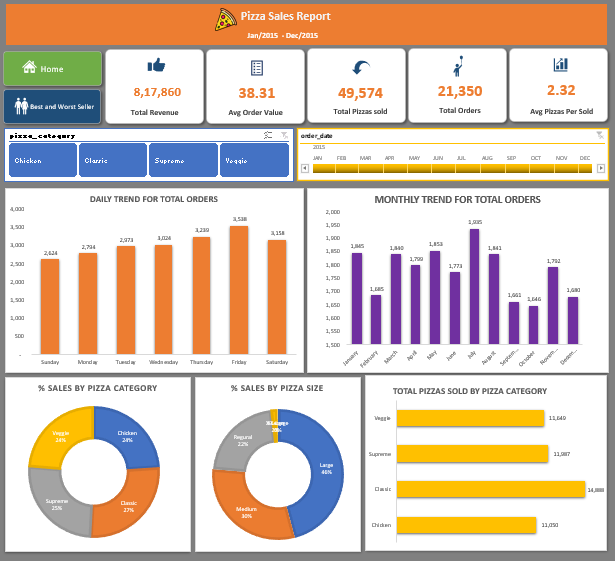

Layout of this report page (visuals, bound fields, positions):
{"tool":"powerbi","page":{"name":"Home","canvas":[1500,820],"ordinal":0},"visuals":[{"type":"image","box":[10,167.1,41.4,44.3],"z":0},{"type":"cardVisual","fields":{"Data":["pizza_sales.Total Revenue","pizza_sales.Average order value","pizza_sales.Total Pizza Sold","pizza_sales.Total orders","pizza_sales.Average pizza per order"]},"box":[245.7,98.6,1254.3,157.1],"z":1000},{"type":"shape","box":[10,14.3,1481.4,77.1],"z":2000},{"type":"textbox","box":[638.6,14.3,288.6,52.9],"z":3000},{"type":"textbox","box":[688.6,52.9,194.3,41.4],"z":4000},{"type":"shape","box":[245.7,255.7,585.7,295.7],"z":5000},{"type":"columnChart","title":"Daily Trend for Total Orders","fields":{"Category":["pizza_sales.Order Day"],"Y":["pizza_sales.Total orders"]},"box":[262.9,265.7,568.6,275.7],"z":6000},{"type":"shape","box":[845.7,255.7,645.7,295.7],"z":7000},{"type":"areaChart","title":"Monthly Trend for Total Orders","fields":{"Category":["pizza_sales.order month"],"Y":["pizza_sales.Total orders"]},"box":[858.6,265.7,628.6,275.7],"z":8000},{"type":"shape","box":[247.1,560,412.9,248.6],"z":9000},{"type":"shape","box":[1085.7,558.6,405.7,248.6],"z":10000},{"type":"shape","box":[670,558.6,405.7,248.6],"z":11000},{"type":"donutChart","title":"% Sales by pizza_category","fields":{"Category":["pizza_sales.pizza_category"],"Y":["pizza_sales.Total Revenue"]},"box":[262.9,571.4,381.4,224.3],"z":12000},{"type":"donutChart","title":"% Sales by pizza_Size","fields":{"Y":["pizza_sales.Total Revenue"],"Category":["pizza_sales.pizza_size"]},"box":[681.4,571.4,381.4,224.3],"z":13000},{"type":"funnel","title":"% Sales by pizza_category","fields":{"Category":["pizza_sales.pizza_category"],"Y":["pizza_sales.Total Pizza Sold"]},"box":[1097.1,567.1,381.4,230],"z":14000},{"type":"slicer","fields":{"Values":["pizza_sales.pizza_category"]},"box":[967.1,17.1,232.9,71.4],"z":15000},{"type":"shape","box":[10,94.3,225.7,710],"z":16000},{"type":"slicer","fields":{"Values":["pizza_sales.order_date"]},"box":[1200,14.3,230,72],"z":17000},{"type":"textbox","box":[10,227.1,225.7,38.6],"z":18000},{"type":"textbox","box":[10,265.7,225.7,251.4],"z":19000},{"type":"textbox","box":[10,520,225.7,38.6],"z":20000},{"type":"textbox","box":[10,552.9,225.7,251.4],"z":21000},{"type":"pageNavigator","box":[10,98.6,225.7,50],"z":23000},{"type":"pageNavigator","box":[10,152.9,225.7,50],"z":24001}]}

Visuals, with their boxes on the page's 1500x820 design canvas (x1, y1, x2, y2). These are canvas units, not pixel positions in the 615x561 screenshot, which may show the page scaled, cropped or inside an application window:
image: rect(10, 167, 51, 211)
cardVisual - pizza_sales.Total Revenue x pizza_sales.Average order value: rect(246, 99, 1500, 256)
shape: rect(10, 14, 1491, 91)
textbox: rect(639, 14, 927, 67)
textbox: rect(689, 53, 883, 94)
shape: rect(246, 256, 831, 551)
"Daily Trend for Total Orders" columnChart: rect(263, 266, 832, 541)
shape: rect(846, 256, 1491, 551)
"Monthly Trend for Total Orders" areaChart: rect(859, 266, 1487, 541)
shape: rect(247, 560, 660, 809)
shape: rect(1086, 559, 1491, 807)
shape: rect(670, 559, 1076, 807)
"% Sales by pizza_category" donutChart: rect(263, 571, 644, 796)
"% Sales by pizza_Size" donutChart: rect(681, 571, 1063, 796)
"% Sales by pizza_category" funnel: rect(1097, 567, 1478, 797)
slicer - pizza_sales.pizza_category: rect(967, 17, 1200, 88)
shape: rect(10, 94, 236, 804)
slicer - pizza_sales.order_date: rect(1200, 14, 1430, 86)
textbox: rect(10, 227, 236, 266)
textbox: rect(10, 266, 236, 517)
textbox: rect(10, 520, 236, 559)
textbox: rect(10, 553, 236, 804)
pageNavigator: rect(10, 99, 236, 149)
pageNavigator: rect(10, 153, 236, 203)
